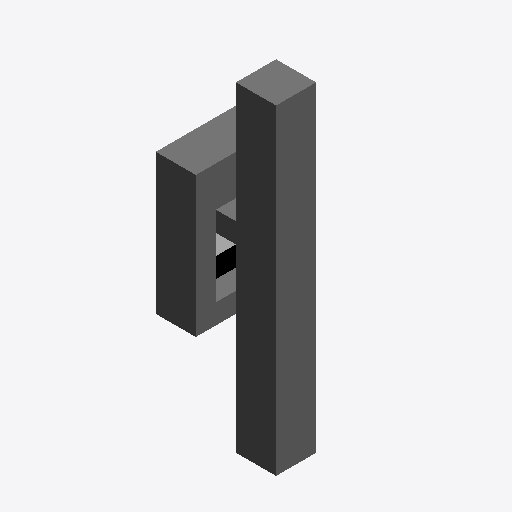
Isometric view (azimuth 45°, elevation 35.3°) of a Minecraft model made of 7 cuboids, textured from the same repository.
Visible parts, largest first — element 7, element 6, element 2, element 4, element 3, element 1.
Part boxes in pixels (bbox=[...]): element 7: bbox=[236, 59, 315, 475]; element 6: bbox=[176, 152, 215, 336]; element 2: bbox=[156, 106, 235, 324]; element 4: bbox=[196, 129, 235, 185]; element 3: bbox=[216, 268, 235, 324]; element 1: bbox=[216, 198, 235, 243].
Bounding box in the file's own units: 6 × 16 × 4.